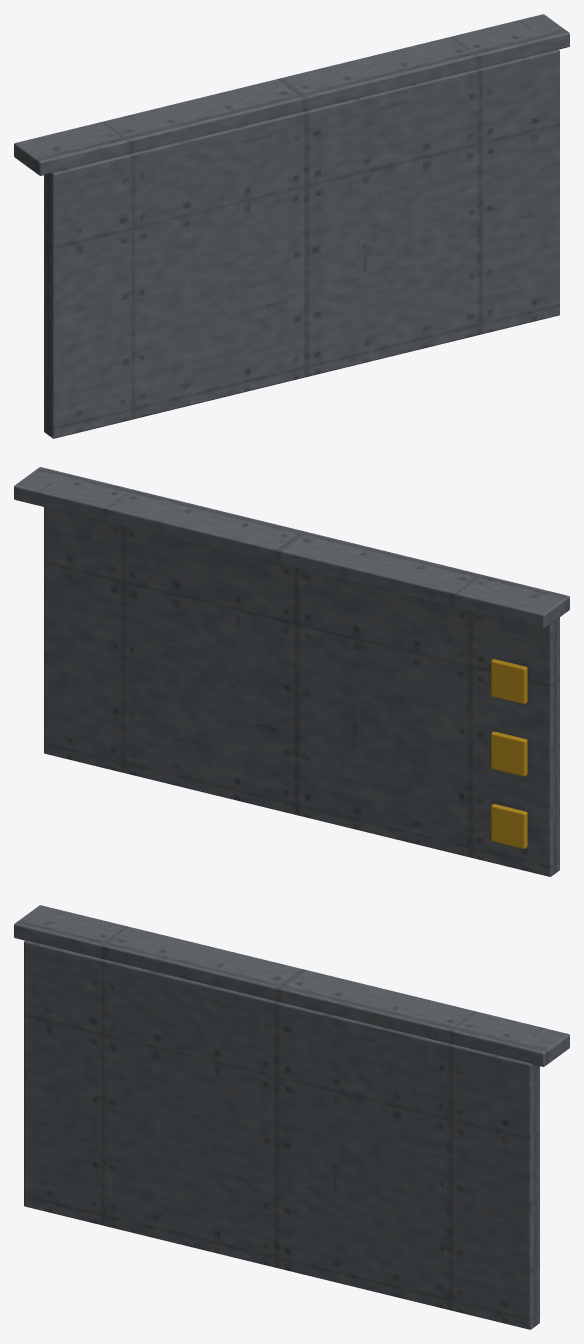
Rendered from base_order_board.glb.
3 renders of one model, top to bottom at view 1: azimuth 30°, elevation 25°; view 2: azimuth 150°, elevation 25°; view 3: azimuth 330°, elevation 25°, orthographic.
Parts seen in each view (by area): view 1: base_order_board.001; view 2: base_order_board.001; view 3: base_order_board.001.
Part boxes in pixels (x1=…): base_order_board.001: x1=14, y1=14, x2=569, y2=438; base_order_board.001: x1=14, y1=467, x2=569, y2=876; base_order_board.001: x1=14, y1=905, x2=569, y2=1329.
Size of the model in its own units: 4.6 by 2.31 by 0.425.
2 materials, 2 textured.
